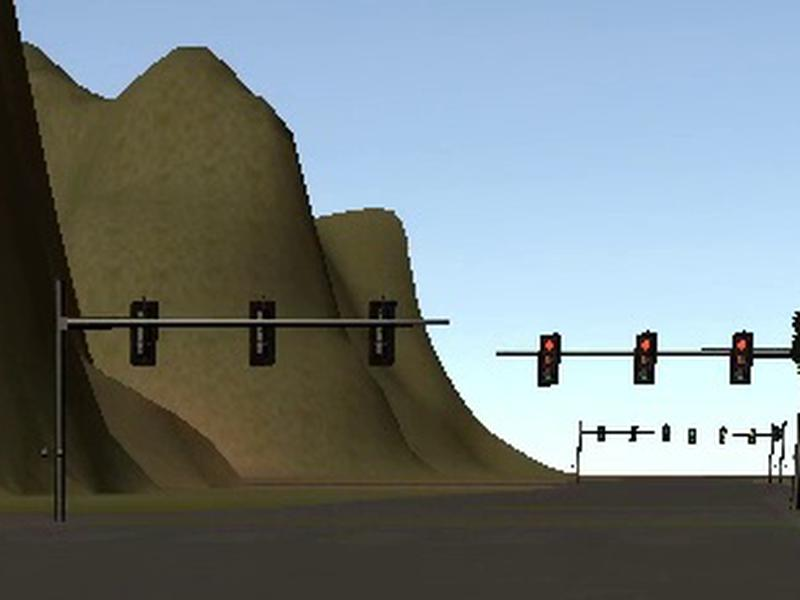Red: (729, 331, 754, 386), (632, 332, 657, 385), (537, 333, 561, 386)
